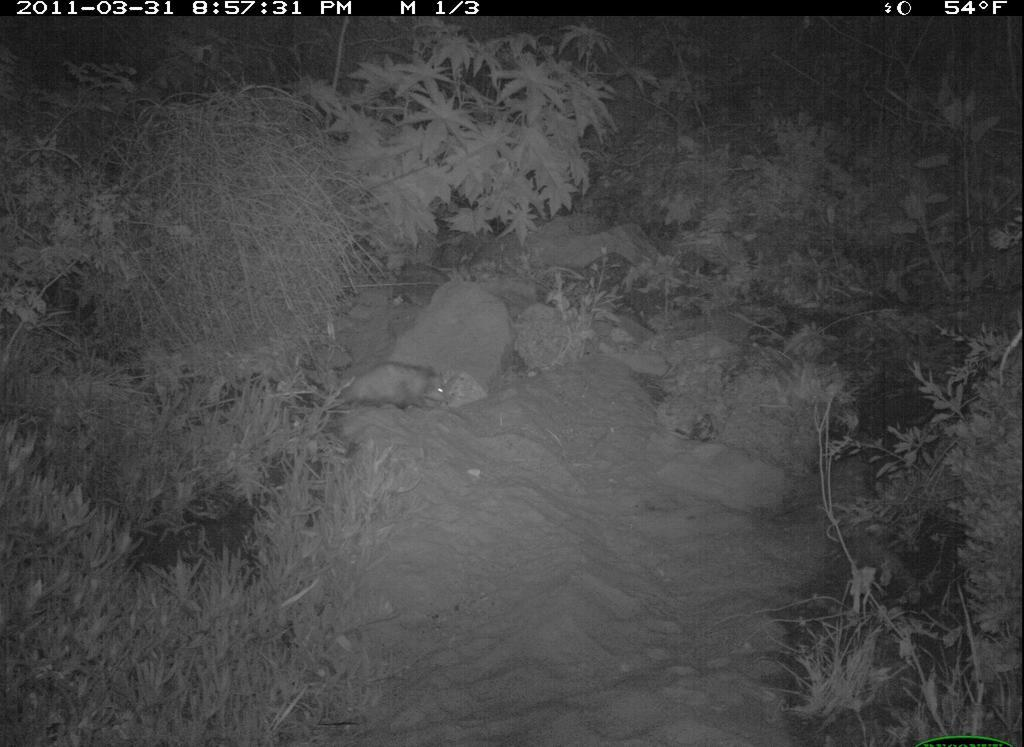opossum: (309, 335, 460, 433)
